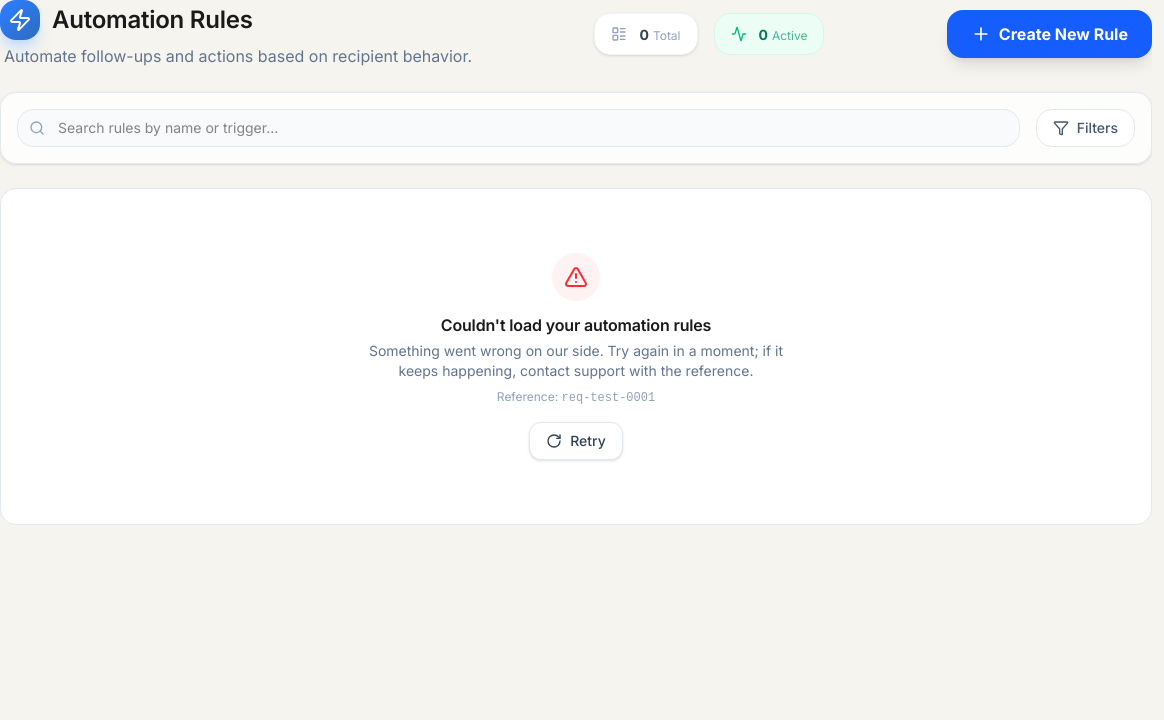
it: AutomationRules page › offers Retry after a failed load
Click the button "Retry" at (576, 441), box [529,422,623,460]
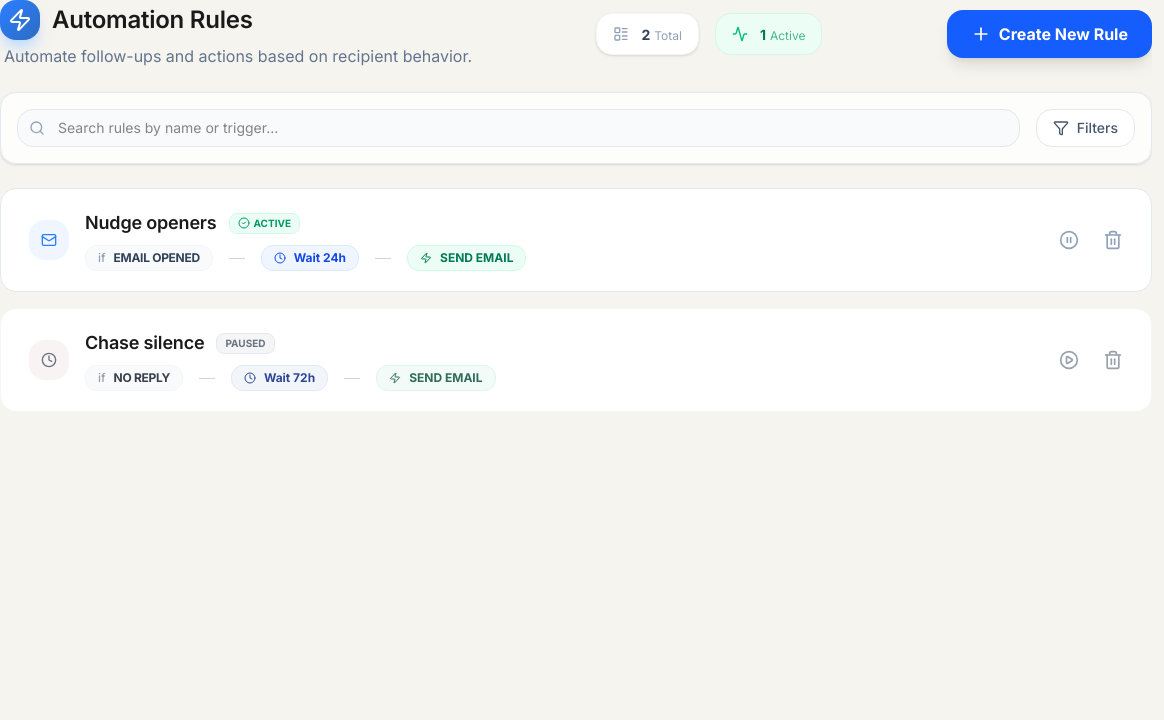
Result: the heading "Nudge openers" is shown at [85,209,216,237]
